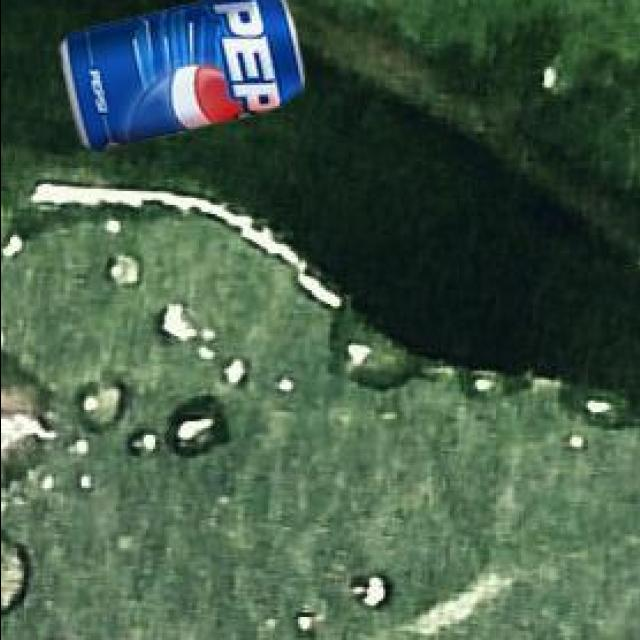logam: (56, 0, 298, 153)
